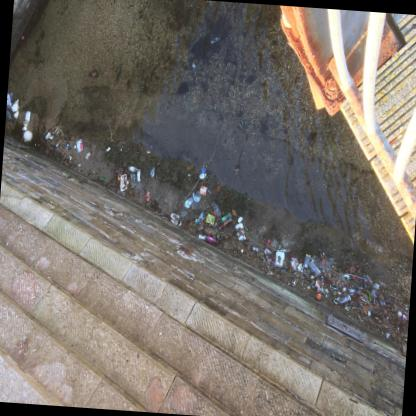Metal: (211, 36, 221, 44), (141, 78, 145, 90), (34, 33, 39, 41), (92, 70, 98, 76)
Paper: (46, 131, 51, 139)
Plastic: (309, 260, 322, 276), (264, 246, 275, 264), (211, 200, 221, 216), (195, 210, 206, 223), (219, 212, 231, 223), (221, 217, 233, 227), (7, 91, 13, 111), (206, 212, 215, 225), (76, 138, 83, 152), (206, 235, 218, 243), (117, 167, 123, 183), (347, 272, 363, 278), (143, 191, 152, 201), (199, 185, 208, 195), (193, 190, 201, 201), (6, 110, 13, 120), (128, 165, 139, 171), (116, 189, 125, 196), (366, 289, 371, 301), (316, 292, 322, 299), (86, 166, 94, 171), (162, 215, 171, 219), (334, 297, 339, 304), (154, 211, 163, 214), (22, 126, 27, 130), (306, 253, 311, 257), (352, 275, 355, 279), (323, 278, 326, 281), (328, 276, 331, 279), (357, 286, 360, 289), (332, 282, 335, 285), (268, 238, 270, 242), (315, 273, 317, 276), (406, 306, 408, 309)
Waste: (235, 222, 246, 240), (275, 251, 285, 266), (339, 293, 351, 304), (314, 278, 324, 291), (183, 196, 193, 208), (291, 256, 299, 270), (171, 212, 180, 224), (11, 98, 19, 111), (303, 255, 311, 268), (23, 130, 32, 141), (130, 172, 136, 187), (115, 66, 121, 78), (25, 110, 31, 121), (137, 168, 141, 181), (373, 282, 380, 289), (13, 110, 19, 118), (239, 119, 245, 127), (297, 262, 303, 270), (85, 151, 91, 158), (199, 233, 206, 239), (199, 173, 207, 178), (55, 126, 60, 133), (372, 289, 377, 296), (64, 143, 69, 149), (238, 216, 243, 222), (24, 119, 28, 126), (151, 167, 154, 176), (106, 146, 111, 151), (253, 246, 258, 251), (344, 273, 349, 278), (386, 332, 390, 338), (280, 268, 286, 272), (350, 288, 356, 292), (398, 310, 402, 316), (403, 313, 407, 319), (55, 142, 59, 147), (201, 168, 205, 173), (276, 249, 286, 251), (300, 269, 304, 273), (333, 290, 337, 294), (343, 286, 346, 291), (179, 220, 182, 225), (217, 232, 219, 239), (69, 155, 72, 159), (310, 274, 314, 277), (78, 163, 81, 166), (338, 291, 341, 294), (74, 144, 76, 148), (241, 248, 243, 252), (147, 150, 150, 152), (188, 173, 191, 175)
